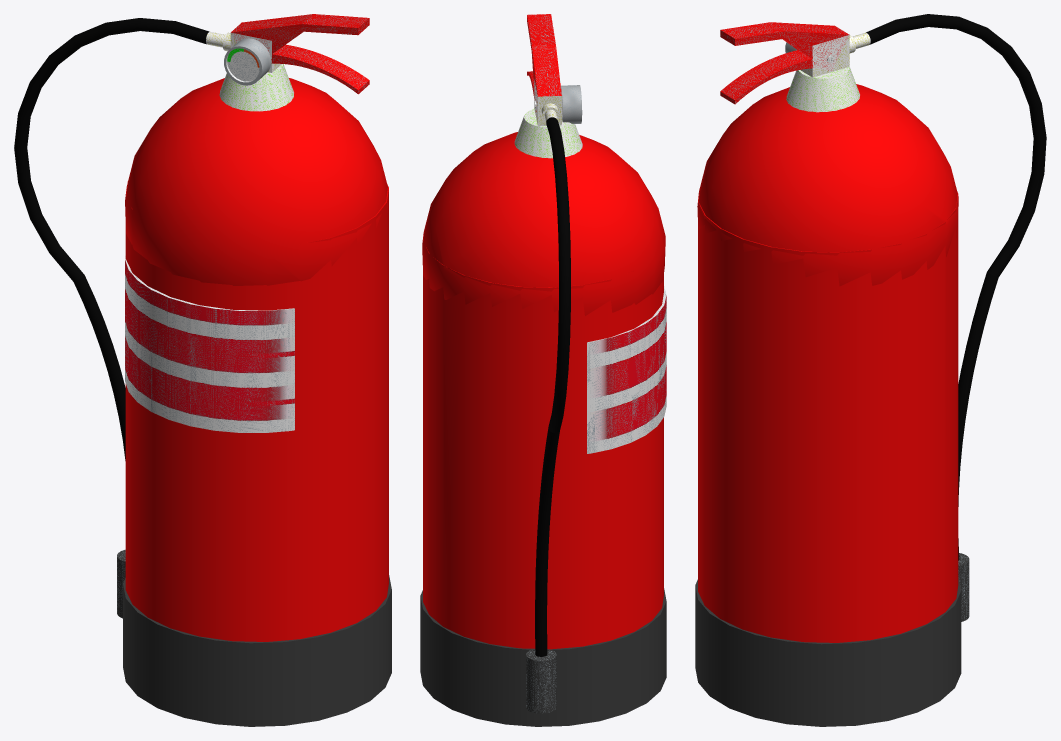
3 renders of one model, left to right at view 1: azimuth 30°, elevation 25°; view 2: azimuth 150°, elevation 25°; view 3: azimuth 270°, elevation 25°, orthographic. The views are drawn at different scales.
Visible parts, largest first — view 1: SketchUp (×9); view 2: SketchUp (×10); view 3: SketchUp (×7).
Boxes of the visible parts, x1=… form: SketchUp (×9): x1=14, y1=14, x2=391, y2=726; SketchUp (×10): x1=420, y1=14, x2=666, y2=726; SketchUp (×7): x1=695, y1=14, x2=1046, y2=726.
Bounding box in the file's own units: 8.67 × 10.6 × 22.08.
12 materials, 3 textured.
